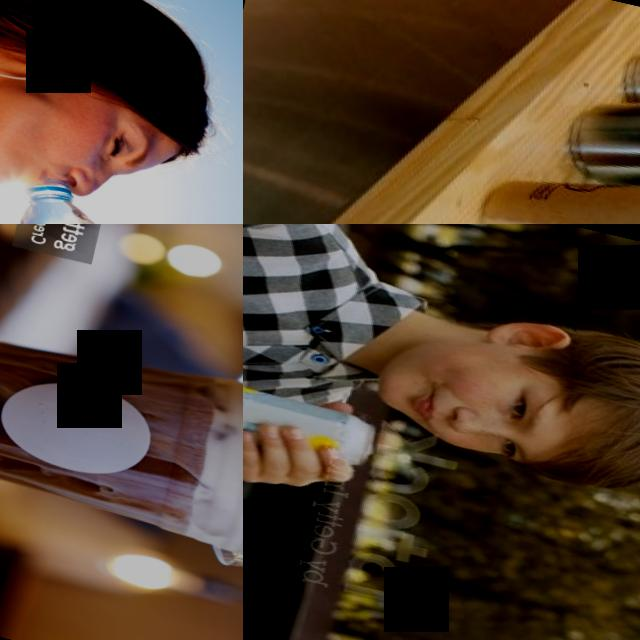bottle: (0, 164, 203, 224)
can: (555, 34, 640, 224), (472, 136, 640, 224), (243, 371, 384, 475)
cup: (0, 282, 243, 604)
